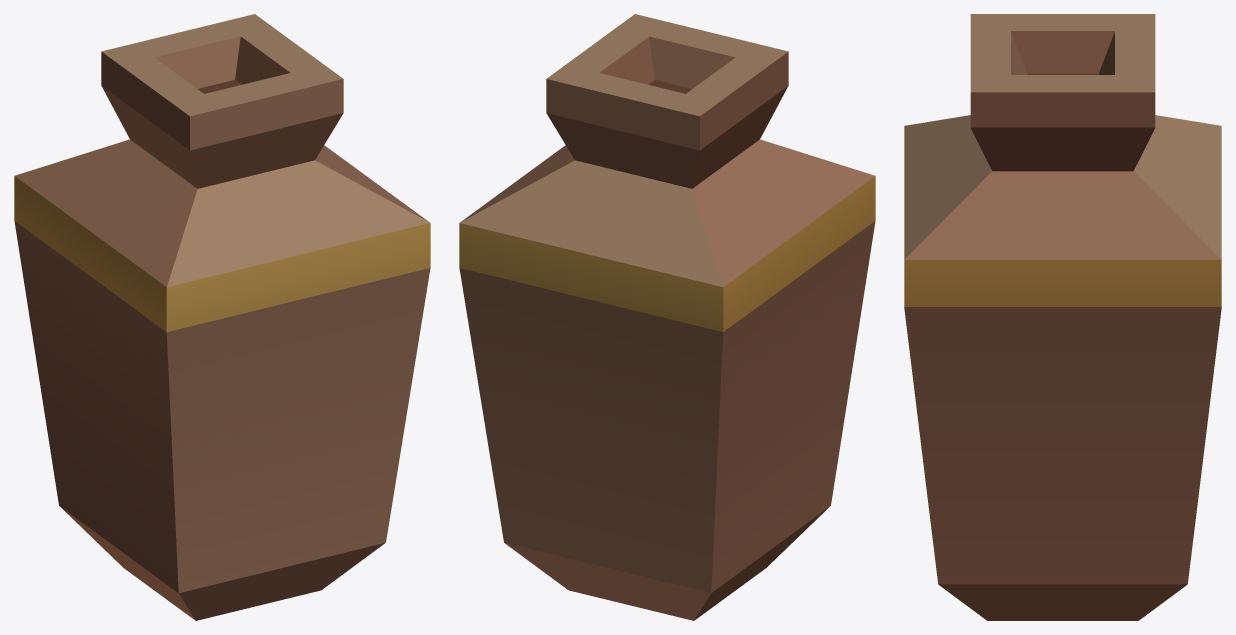
Rendered from ST_Prop_Vase_05.fbx.
3 views of the same model, side by side, from view 1: azimuth 30°, elevation 25°; view 2: azimuth 150°, elevation 25°; view 3: azimuth 270°, elevation 25° (orthographic). The views are drawn at different scales.
Parts seen in each view (by area): view 1: ST_Prop_Vase_05; view 2: ST_Prop_Vase_05; view 3: ST_Prop_Vase_05.
Boxes of the visible parts, x1,y1,x2,y2 form: ST_Prop_Vase_05: (14,14,430,620); ST_Prop_Vase_05: (459,14,875,620); ST_Prop_Vase_05: (904,14,1221,620).
Size of the model in its own units: 1 by 1.87 by 1.
